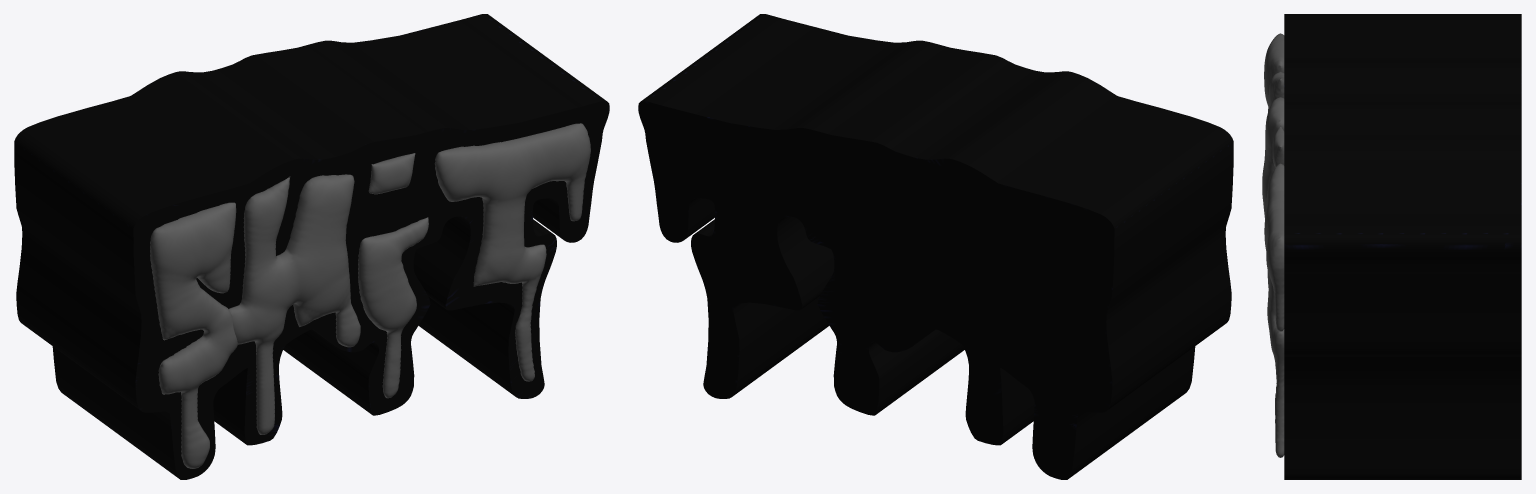
File: shit.glb
3 views of the same model, side by side, from view 1: azimuth 30°, elevation 25°; view 2: azimuth 150°, elevation 25°; view 3: azimuth 270°, elevation 25° (orthographic).
Visible parts, largest first — view 1: mesh_id148, mesh_id81, mesh_id89, mesh_id75, mesh_id83, mesh_id85; view 2: mesh_id148; view 3: mesh_id148, mesh_id89, mesh_id81, mesh_id75, mesh_id85.
Boxes of the visible parts, left/top/right/bottom form: mesh_id148: left=14, top=14, right=609, bottom=479; mesh_id81: left=229, top=174, right=360, bottom=434; mesh_id89: left=434, top=123, right=590, bottom=381; mesh_id75: left=150, top=202, right=237, bottom=468; mesh_id83: left=358, top=217, right=428, bottom=398; mesh_id85: left=368, top=153, right=415, bottom=194; mesh_id148: left=638, top=14, right=1233, bottom=479; mesh_id148: left=1284, top=14, right=1521, bottom=479; mesh_id89: left=1264, top=163, right=1284, bottom=457; mesh_id81: left=1262, top=71, right=1284, bottom=218; mesh_id75: left=1264, top=33, right=1284, bottom=111; mesh_id85: left=1272, top=125, right=1284, bottom=167.
Size of the model in its own units: 0.2306 by 0.1373 by 0.1092.
6 materials, 6 textured.
